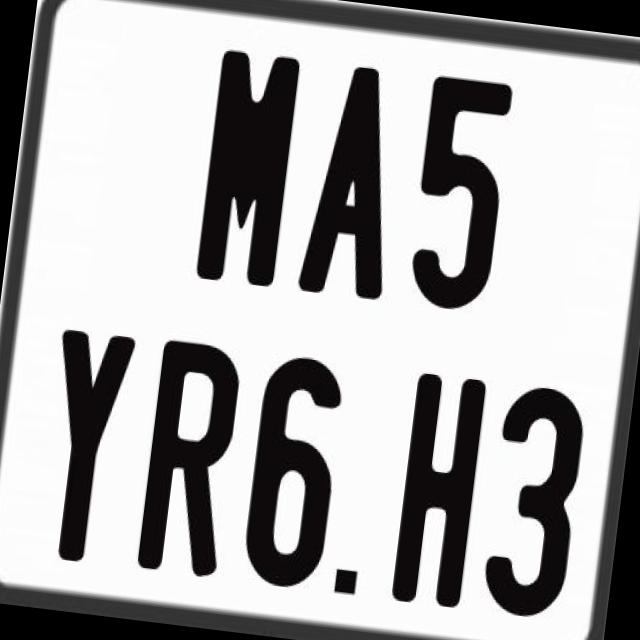3: (480, 384, 588, 624)
5: (402, 70, 514, 312)
6: (240, 350, 351, 588)
A: (297, 60, 415, 298)
H: (388, 372, 488, 614)
M: (190, 46, 297, 294)
R: (136, 334, 250, 580)
Y: (33, 326, 134, 564)
